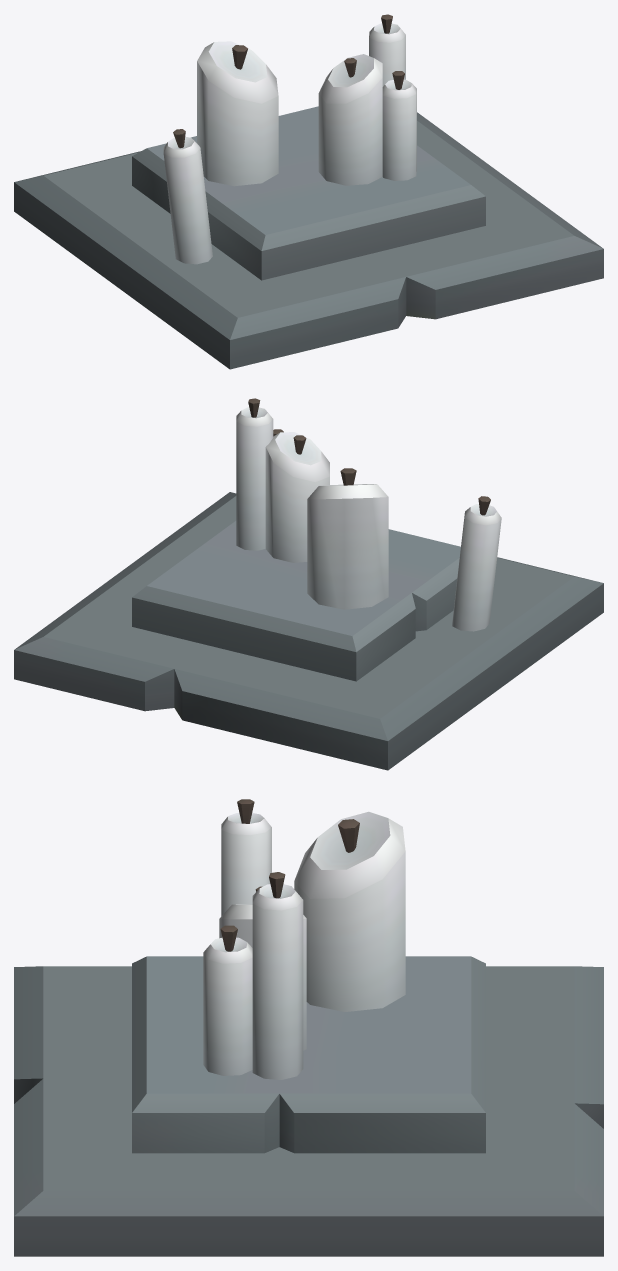
File: kay-placa-velas.gltf
3 views of the same model, one above another, from view 1: azimuth 30°, elevation 25°; view 2: azimuth 150°, elevation 25°; view 3: azimuth 270°, elevation 25° (orthographic). The views are drawn at different scales.
Visible parts, largest first — view 1: plaque_candles; view 2: plaque_candles; view 3: plaque_candles.
Boxes of the visible parts, <box> form: plaque_candles: <box>14,14,603,369</box>; plaque_candles: <box>14,398,603,770</box>; plaque_candles: <box>14,799,603,1256</box>.
Size of the model in its own units: 1 by 0.5656 by 1.
1 material, 1 textured.
